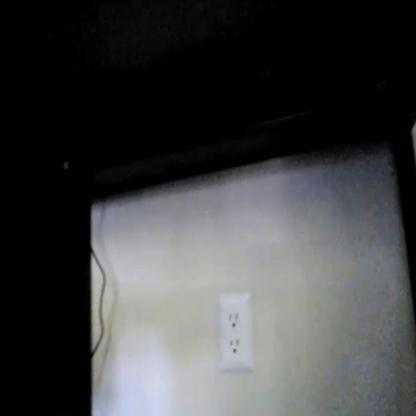OUTLET: (218, 292, 253, 372)
